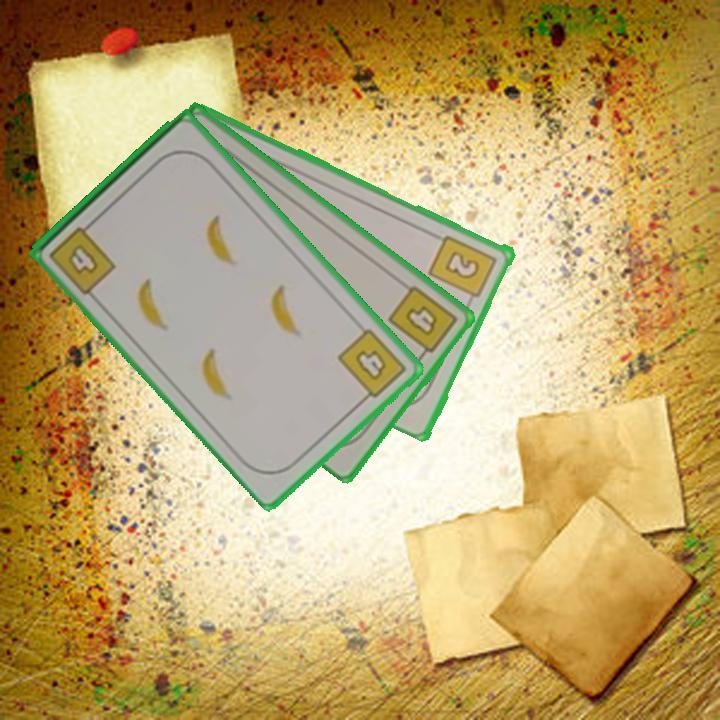2b: (426, 231, 500, 308)
4b: (384, 281, 461, 364), (334, 324, 410, 407), (45, 216, 120, 298)
